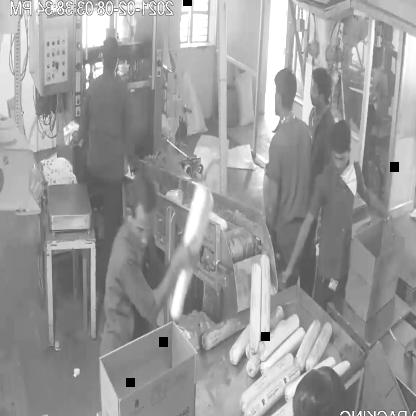no_glove: (136, 232, 200, 332), (274, 205, 324, 296), (355, 172, 395, 236), (400, 311, 416, 370)
